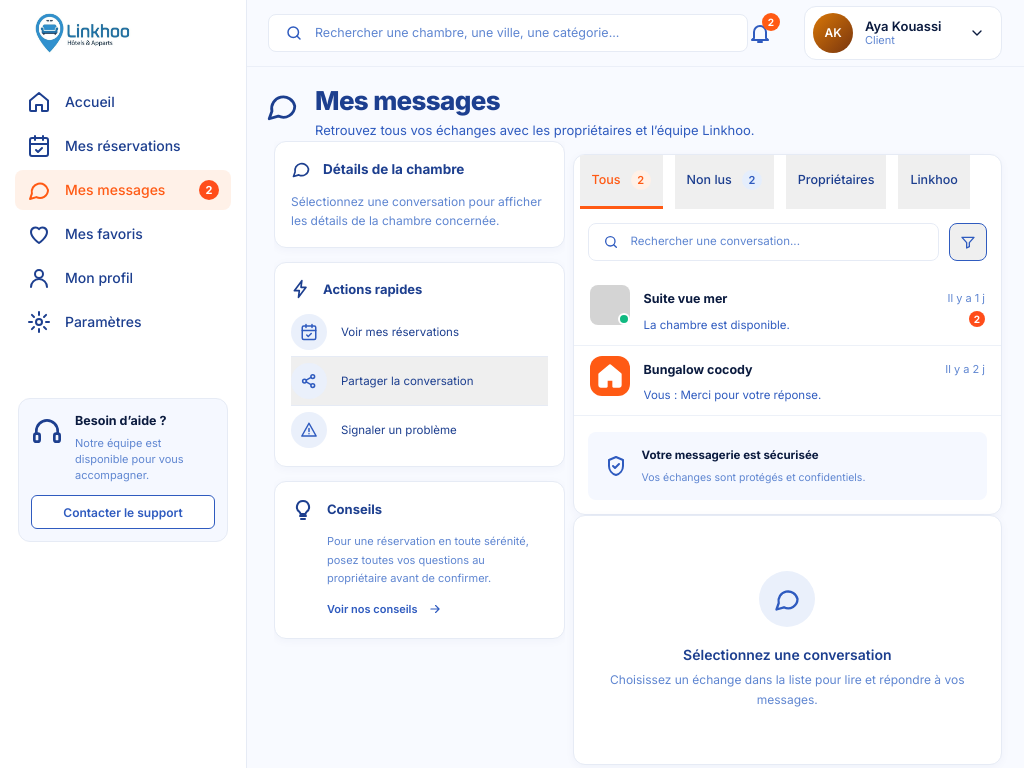
Scenario: ClientMessagesMaq — boîte de réception › affiche un état vide dédié à l’onglet Linkhoo
expect the heading "Suite vue mer" is shown: met, box 644,291 -> 728,306
Click the button "Linkhoo" at (934, 182), box 898,155 -> 970,209
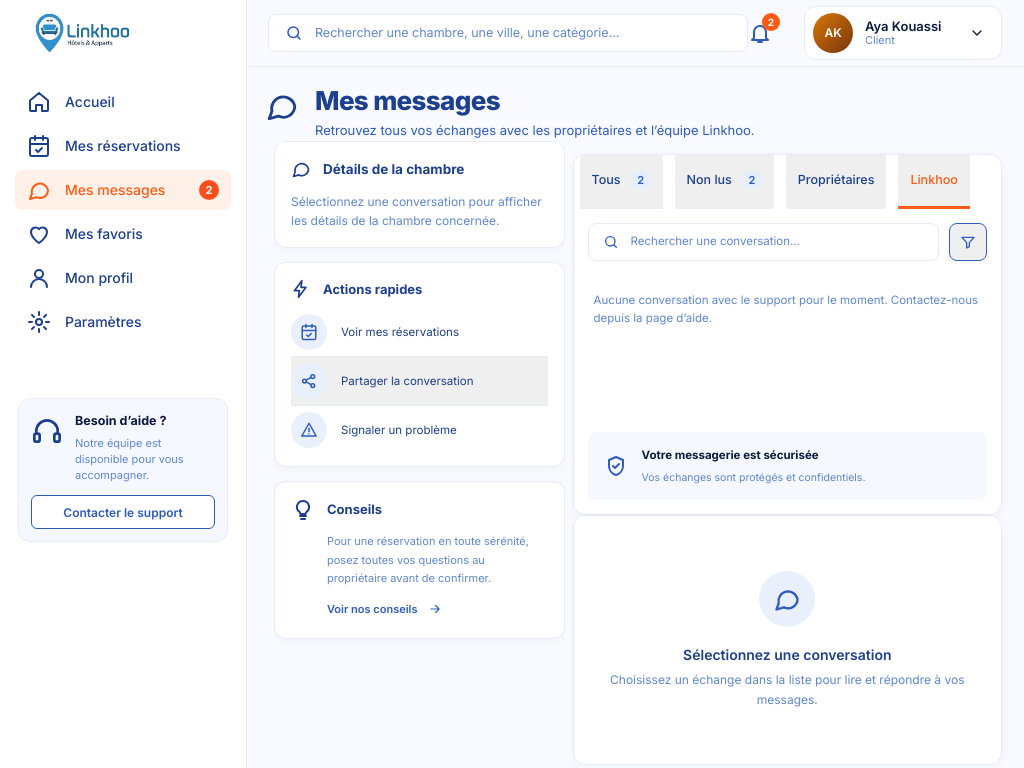
expect the text "Aucune conversation avec le support" is shown: met, box 594,293 -> 978,325
